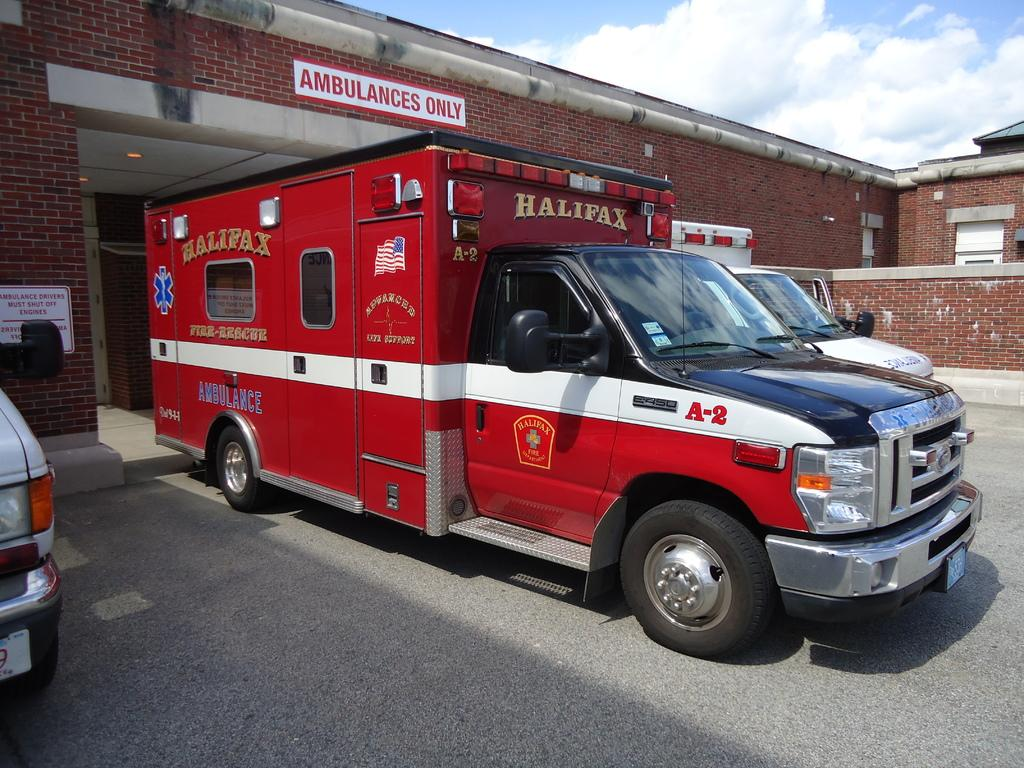Ambulance: (144, 132, 980, 652)
